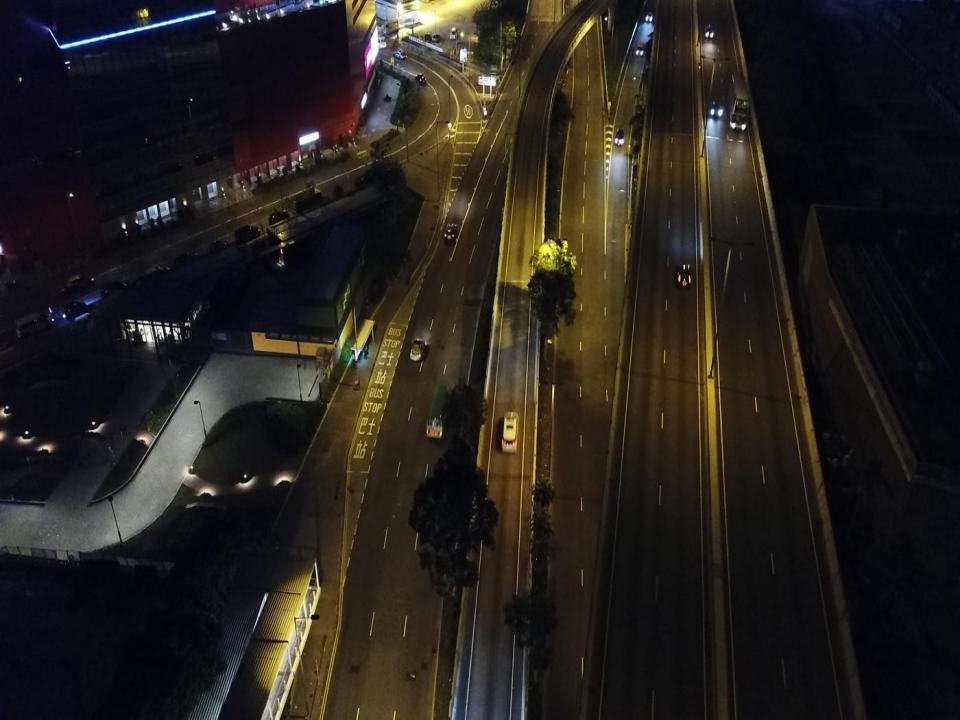bus: (426, 383, 450, 442), (728, 74, 749, 130)
car: (678, 263, 691, 290), (410, 338, 425, 361), (444, 223, 458, 241), (710, 98, 722, 117), (614, 128, 624, 145), (415, 73, 426, 85), (394, 50, 407, 60), (705, 25, 713, 38), (423, 32, 431, 42), (432, 33, 440, 42), (646, 12, 653, 22)
van: (501, 410, 520, 452), (368, 33, 387, 48), (450, 26, 458, 40), (636, 42, 644, 56)
